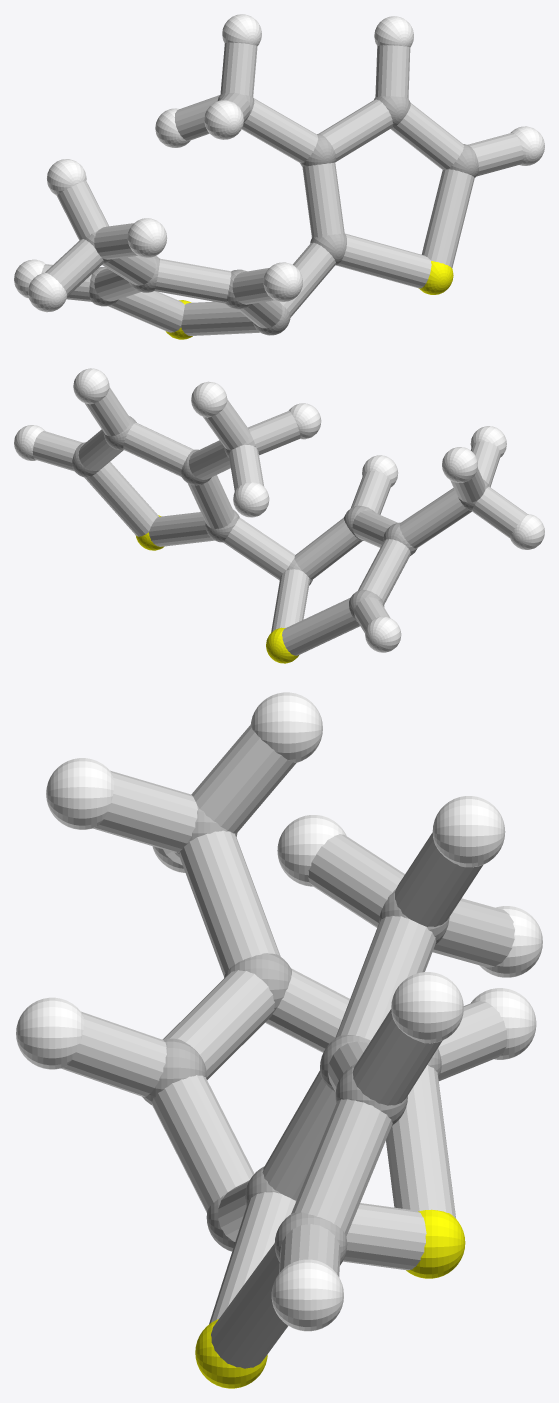
Rendered from Methylthiophene_Phi_60_Theta_100_Methylthiophene.glb.
The picture shows the model from 3 angles, top to bottom: view 1: azimuth 30°, elevation 25°; view 2: azimuth 150°, elevation 25°; view 3: azimuth 270°, elevation 25°; orthographic projection. The views are drawn at different scales.
Parts seen in each view (by area): view 1: grp7965, grp3621, grp1, grp7241; view 2: grp7965, grp3621, grp1, grp7241; view 3: grp7965, grp3621, grp1, grp7241.
Part boxes in pixels (left/top/right/bottom): grp7965: left=41, top=42, right=523, bottom=335; grp3621: left=14, top=14, right=544, bottom=312; grp1: left=84, top=93, right=478, bottom=335; grp7241: left=165, top=261, right=453, bottom=339; grp7965: left=32, top=387, right=526, bottom=655; grp3621: left=14, top=368, right=544, bottom=652; grp1: left=72, top=416, right=488, bottom=621; grp7241: left=135, top=515, right=298, bottom=663; grp7965: left=61, top=725, right=514, bottom=1368; grp3621: left=16, top=692, right=542, bottom=1331; grp1: left=142, top=806, right=449, bottom=1265; grp7241: left=195, top=1209, right=465, bottom=1388.
Bounding box in the file's own units: 9.47 × 4.92 × 4.36.
